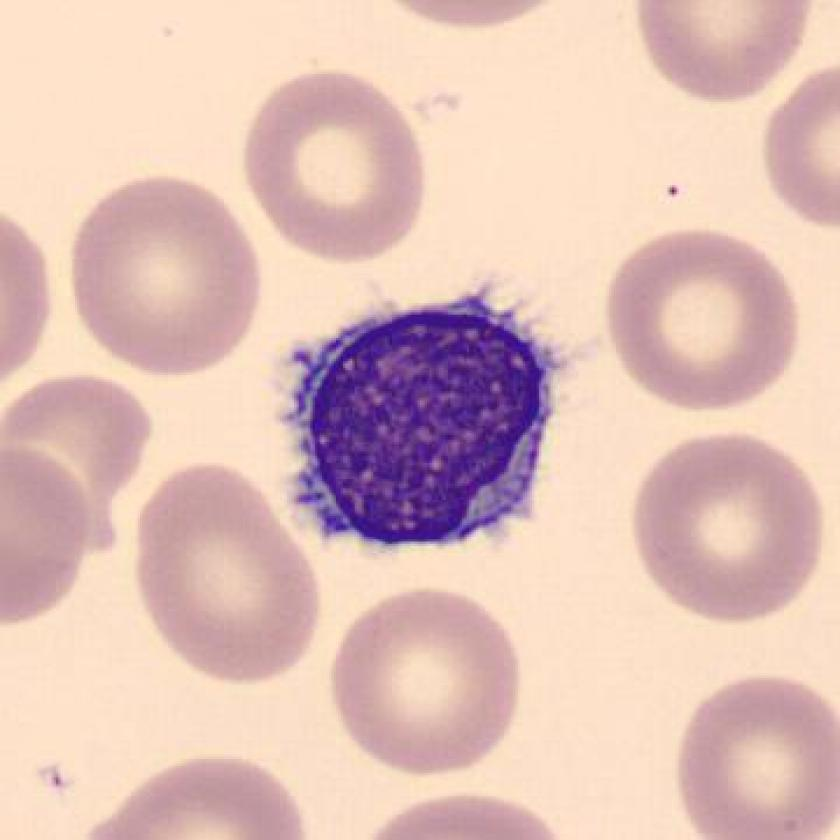lymphocyte: (272, 274, 566, 563)
